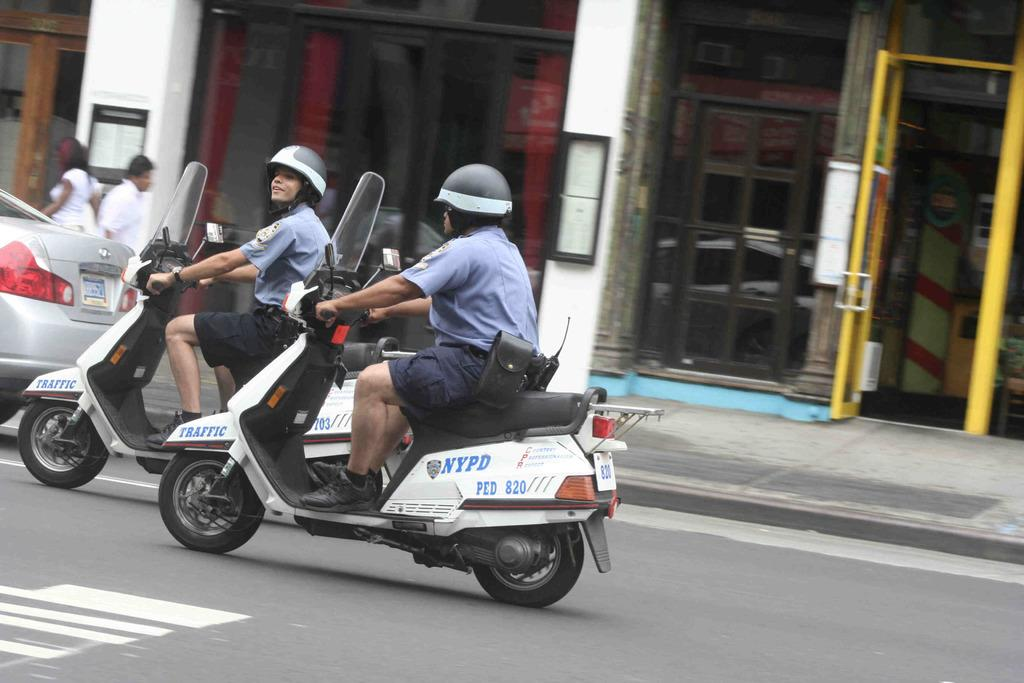helmet: (432, 162, 513, 235), (266, 145, 328, 203)
nohelmet: (54, 136, 84, 176), (127, 154, 154, 194)
